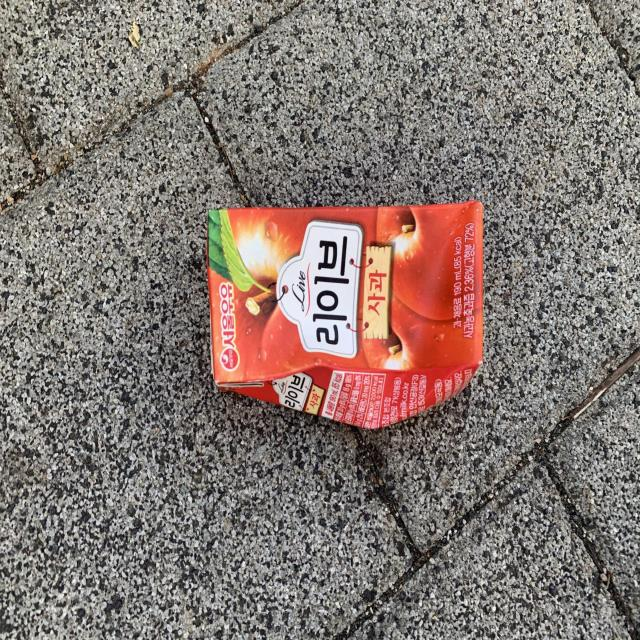paperpack: (207, 201, 484, 429)
